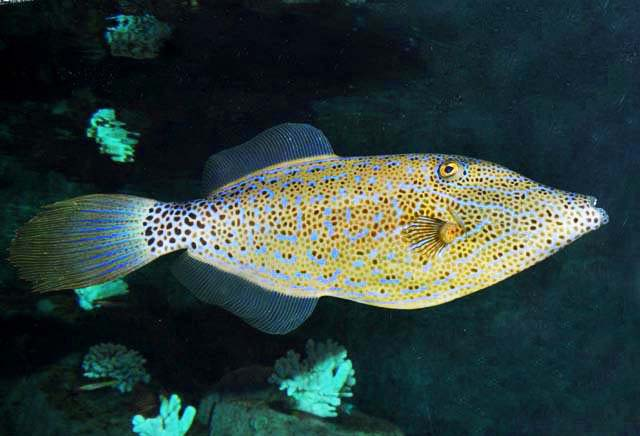Aluterus_scriptus: (9, 122, 614, 345)
